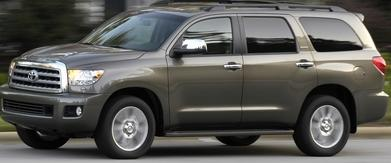front_view: (5, 53, 117, 159)
headlight: (63, 62, 102, 89)
side_glass: (174, 18, 302, 61)
